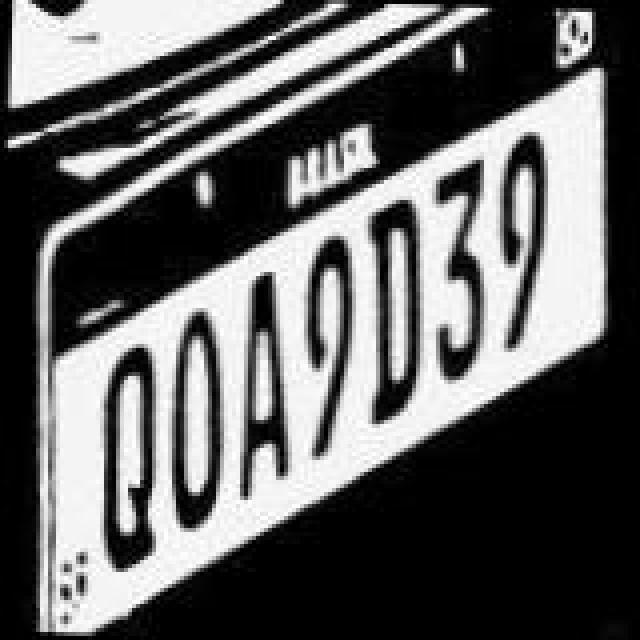3: (424, 154, 488, 382)
9: (296, 228, 356, 460), (492, 126, 548, 354)
A: (234, 266, 294, 498)
D: (356, 194, 424, 426)
O: (164, 308, 224, 532)
Q: (94, 334, 166, 582)
